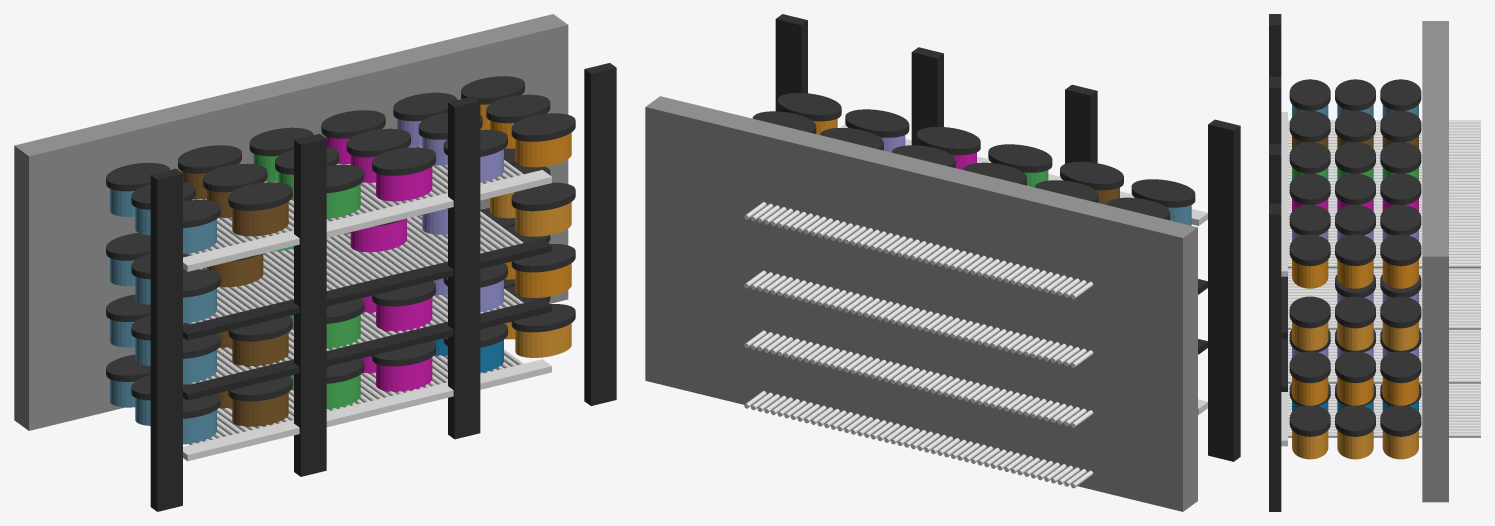
Rendered from IceCreamIsle.fbx.
3 views of the same model, side by side, from view 1: azimuth 30°, elevation 25°; view 2: azimuth 150°, elevation 25°; view 3: azimuth 270°, elevation 25° (orthographic). The views are drawn at different scales.
Parts seen in each view (by area): view 1: Cube.009, Cube.015, Cube.017, Cube.013, Cube.014, Cylinder, Cylinder.011, Cylinder.015, Cylinder.005, Cube.006, Cube.010, Cube (+23 smaller); view 2: Cube.009, Cube.015, Cylinder, Cylinder.001, Cylinder.003, Cylinder.002, Cube.013, Cube.017, Cylinder.017, Cube.014, Cylinder.013, Cylinder.008 (+3 smaller); view 3: Cube.009, Cylinder.001, Cylinder.022, Cylinder.005, Cylinder.020, Cylinder.036, Cube.017, Cylinder, Cylinder.017, Cylinder.015, Cylinder.013, Cylinder.011 (+13 smaller).
Boxes of the visible parts, x1,y1,x2,y2 form: Cube.009: (14, 14, 568, 430); Cube.015: (150, 168, 182, 511); Cube.017: (584, 63, 616, 405); Cube.013: (448, 96, 480, 439); Cube.014: (294, 133, 326, 476); Cylinder: (188, 211, 523, 324); Cylinder.011: (321, 110, 435, 201); Cylinder.015: (178, 145, 292, 236); Cylinder.005: (461, 76, 575, 167); Cube.006: (183, 298, 551, 400); Cube.010: (183, 359, 551, 461); Cube: (183, 238, 551, 340); Cube.009: (645, 96, 1197, 511); Cube.015: (1208, 119, 1240, 461); Cylinder: (744, 270, 1093, 367); Cylinder.001: (744, 202, 1093, 299); Cylinder.003: (744, 391, 1093, 488); Cylinder.002: (744, 330, 1093, 427); Cube.013: (911, 47, 943, 145); Cube.017: (775, 14, 807, 111); Cylinder.017: (1106, 179, 1195, 225); Cube.014: (1065, 84, 1097, 163); Cylinder.013: (963, 144, 1052, 187); Cylinder.008: (820, 109, 909, 152); Cube.009: (1422, 21, 1448, 502); Cylinder.001: (1288, 120, 1480, 268); Cylinder.022: (1289, 351, 1421, 405); Cylinder.005: (1289, 234, 1421, 288); Cylinder.020: (1289, 296, 1421, 350); Cylinder.036: (1289, 405, 1421, 459); Cube.017: (1269, 203, 1281, 511); Cylinder: (1288, 268, 1480, 329); Cylinder.017: (1289, 79, 1421, 117); Cylinder.015: (1289, 110, 1421, 148); Cylinder.013: (1289, 142, 1421, 179); Cylinder.011: (1289, 173, 1421, 211).
Bounding box in the file's own units: 4197 × 2470 × 1596.
